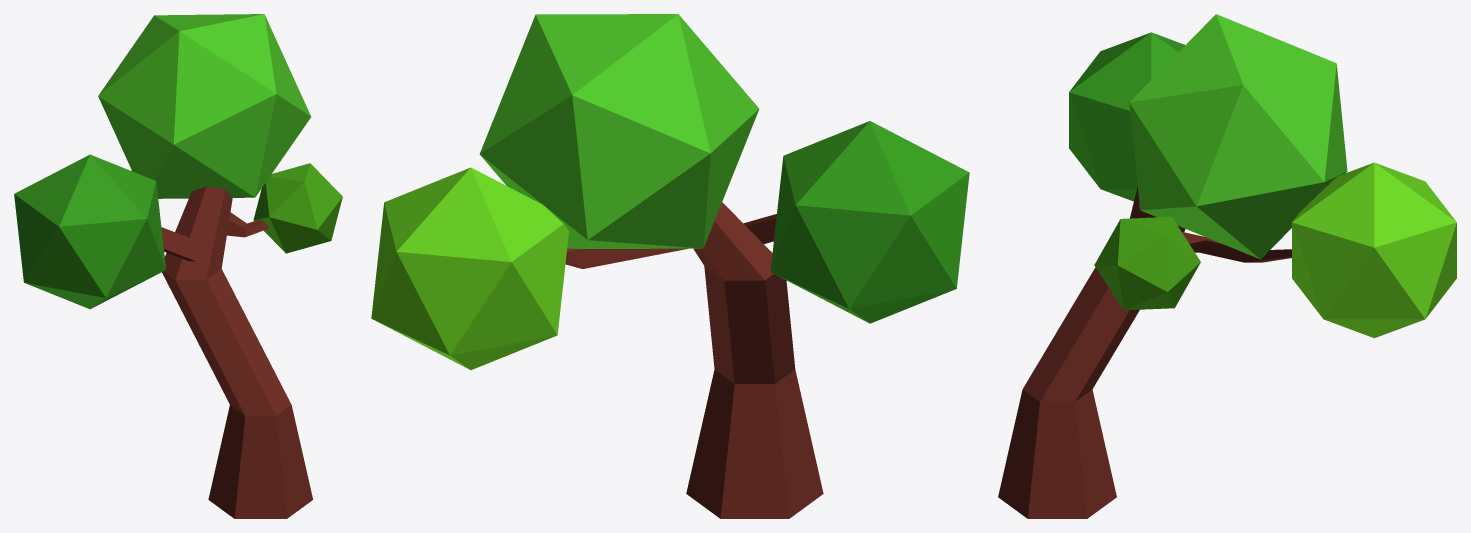
Rendered from tree.fbx.
3 views of the same model, side by side, from view 1: azimuth 30°, elevation 25°; view 2: azimuth 150°, elevation 25°; view 3: azimuth 270°, elevation 25° (orthographic). The views are drawn at different scales.
Visible parts, largest first — view 1: Icosphere.004; view 2: Icosphere.004; view 3: Icosphere.004.
Part boxes in pixels (x1,y1,x2,y2): Icosphere.004: [14, 14, 342, 518]; Icosphere.004: [371, 14, 969, 518]; Icosphere.004: [998, 14, 1456, 518].
Bounding box in the file's own units: 746 × 884 × 771.
